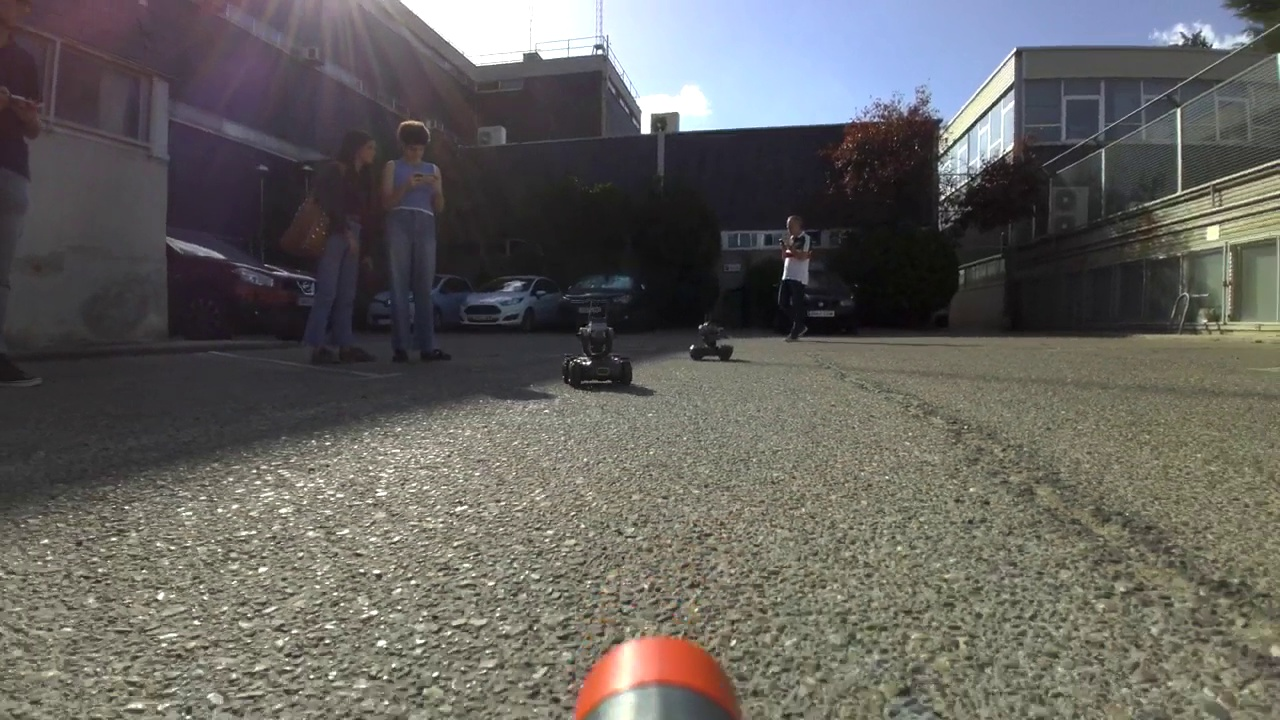robot: (562, 298, 634, 394), (689, 314, 734, 364)
